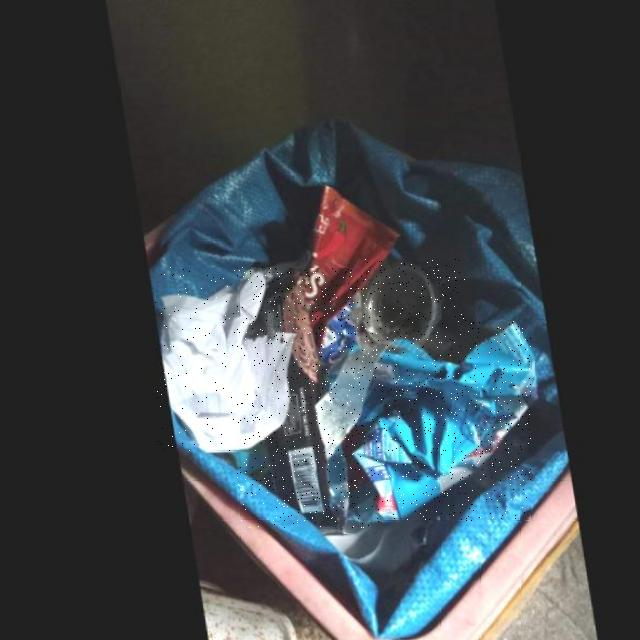glass: (359, 260, 465, 362)
paper: (156, 268, 289, 451)
wrapper: (335, 321, 531, 521), (238, 269, 382, 528)
